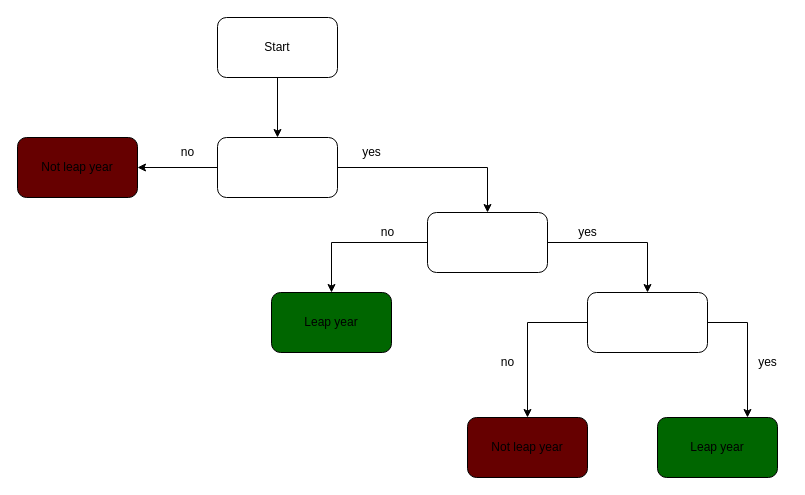
Some shapes in this 805 by 495 pixel diagram are drawn without their labels. Here are the shapes that lost their labels. From the top down, the centre of each, then its label:
point 277,167: cleanly divisible by 4?
point 487,242: cleanly divisible by 100?
point 647,322: cleanly divided by 400?
